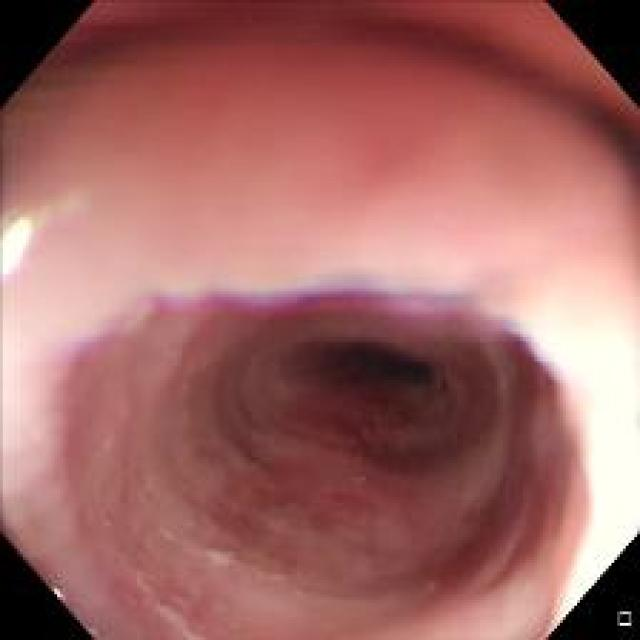blur: (2, 71, 634, 340)
color misalignment: (174, 271, 459, 326)
saturation: (544, 310, 636, 578)
specularity: (0, 218, 31, 279)
